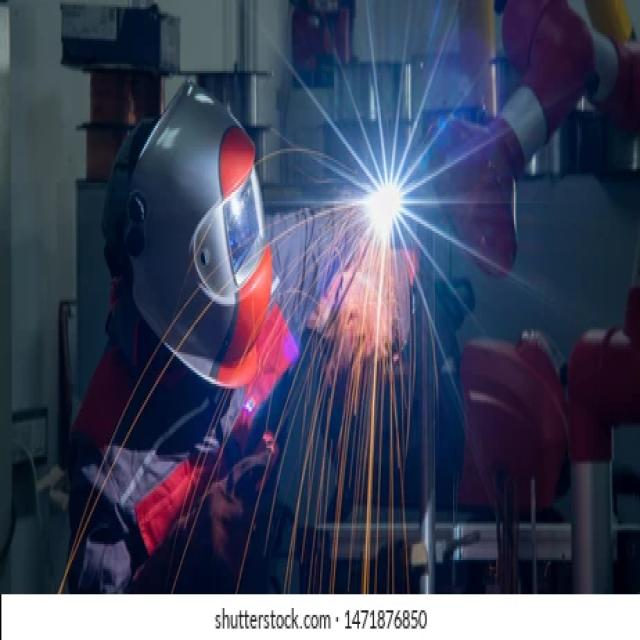welding: (372, 177, 406, 230)
